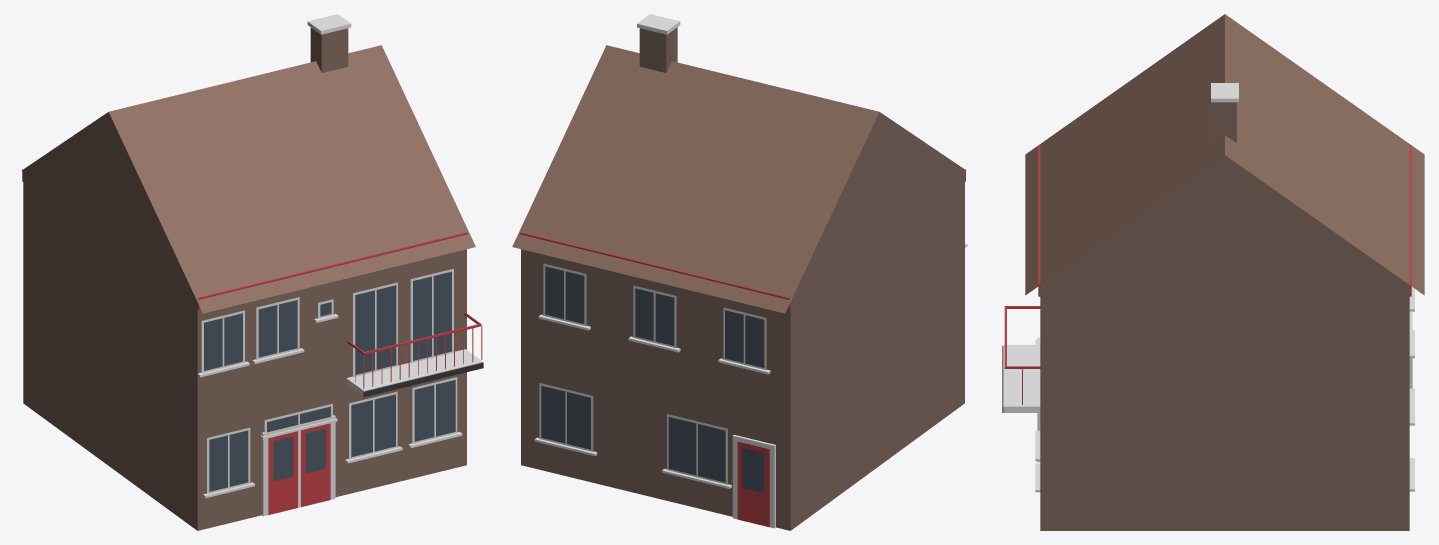
Rendered from oo-ta-side__red__2__gable__long__solid__mirror.glb.
3 views of the same model, side by side, from view 1: azimuth 30°, elevation 25°; view 2: azimuth 150°, elevation 25°; view 3: azimuth 270°, elevation 25° (orthographic). The views are drawn at different scales.
Visible parts, largest first — view 1: oo-ta-side__red__2__gable__long__solid__mirror; view 2: oo-ta-side__red__2__gable__long__solid__mirror; view 3: oo-ta-side__red__2__gable__long__solid__mirror.
Part boxes in pixels (box(x1,y1,x2,y2)): oo-ta-side__red__2__gable__long__solid__mirror: box(21, 14, 483, 530); oo-ta-side__red__2__gable__long__solid__mirror: box(512, 14, 967, 530); oo-ta-side__red__2__gable__long__solid__mirror: box(1002, 14, 1424, 530).
Size of the model in its own units: 7.69 by 10.52 by 9.73.
